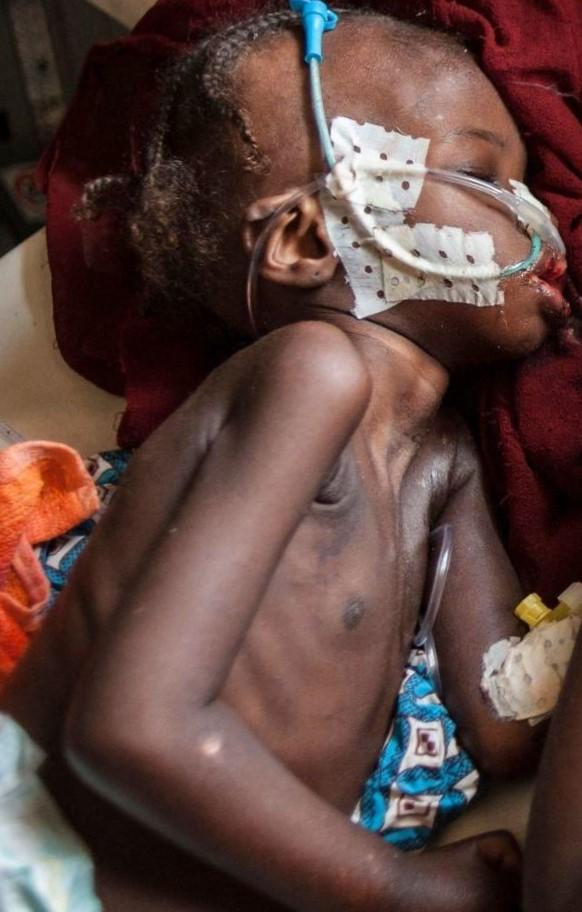Stunting: (117, 12, 582, 388)
